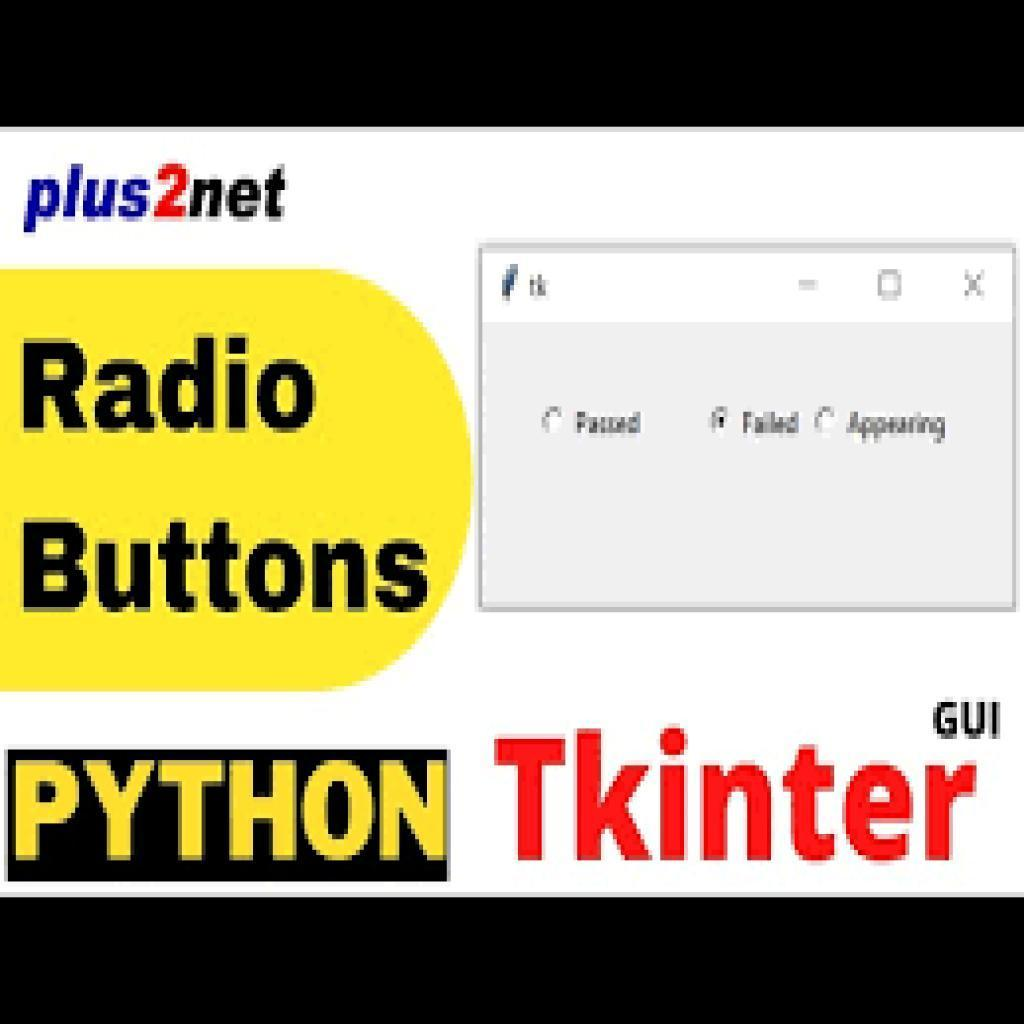radio: (539, 398, 574, 447), (706, 396, 735, 446), (812, 398, 840, 445)
